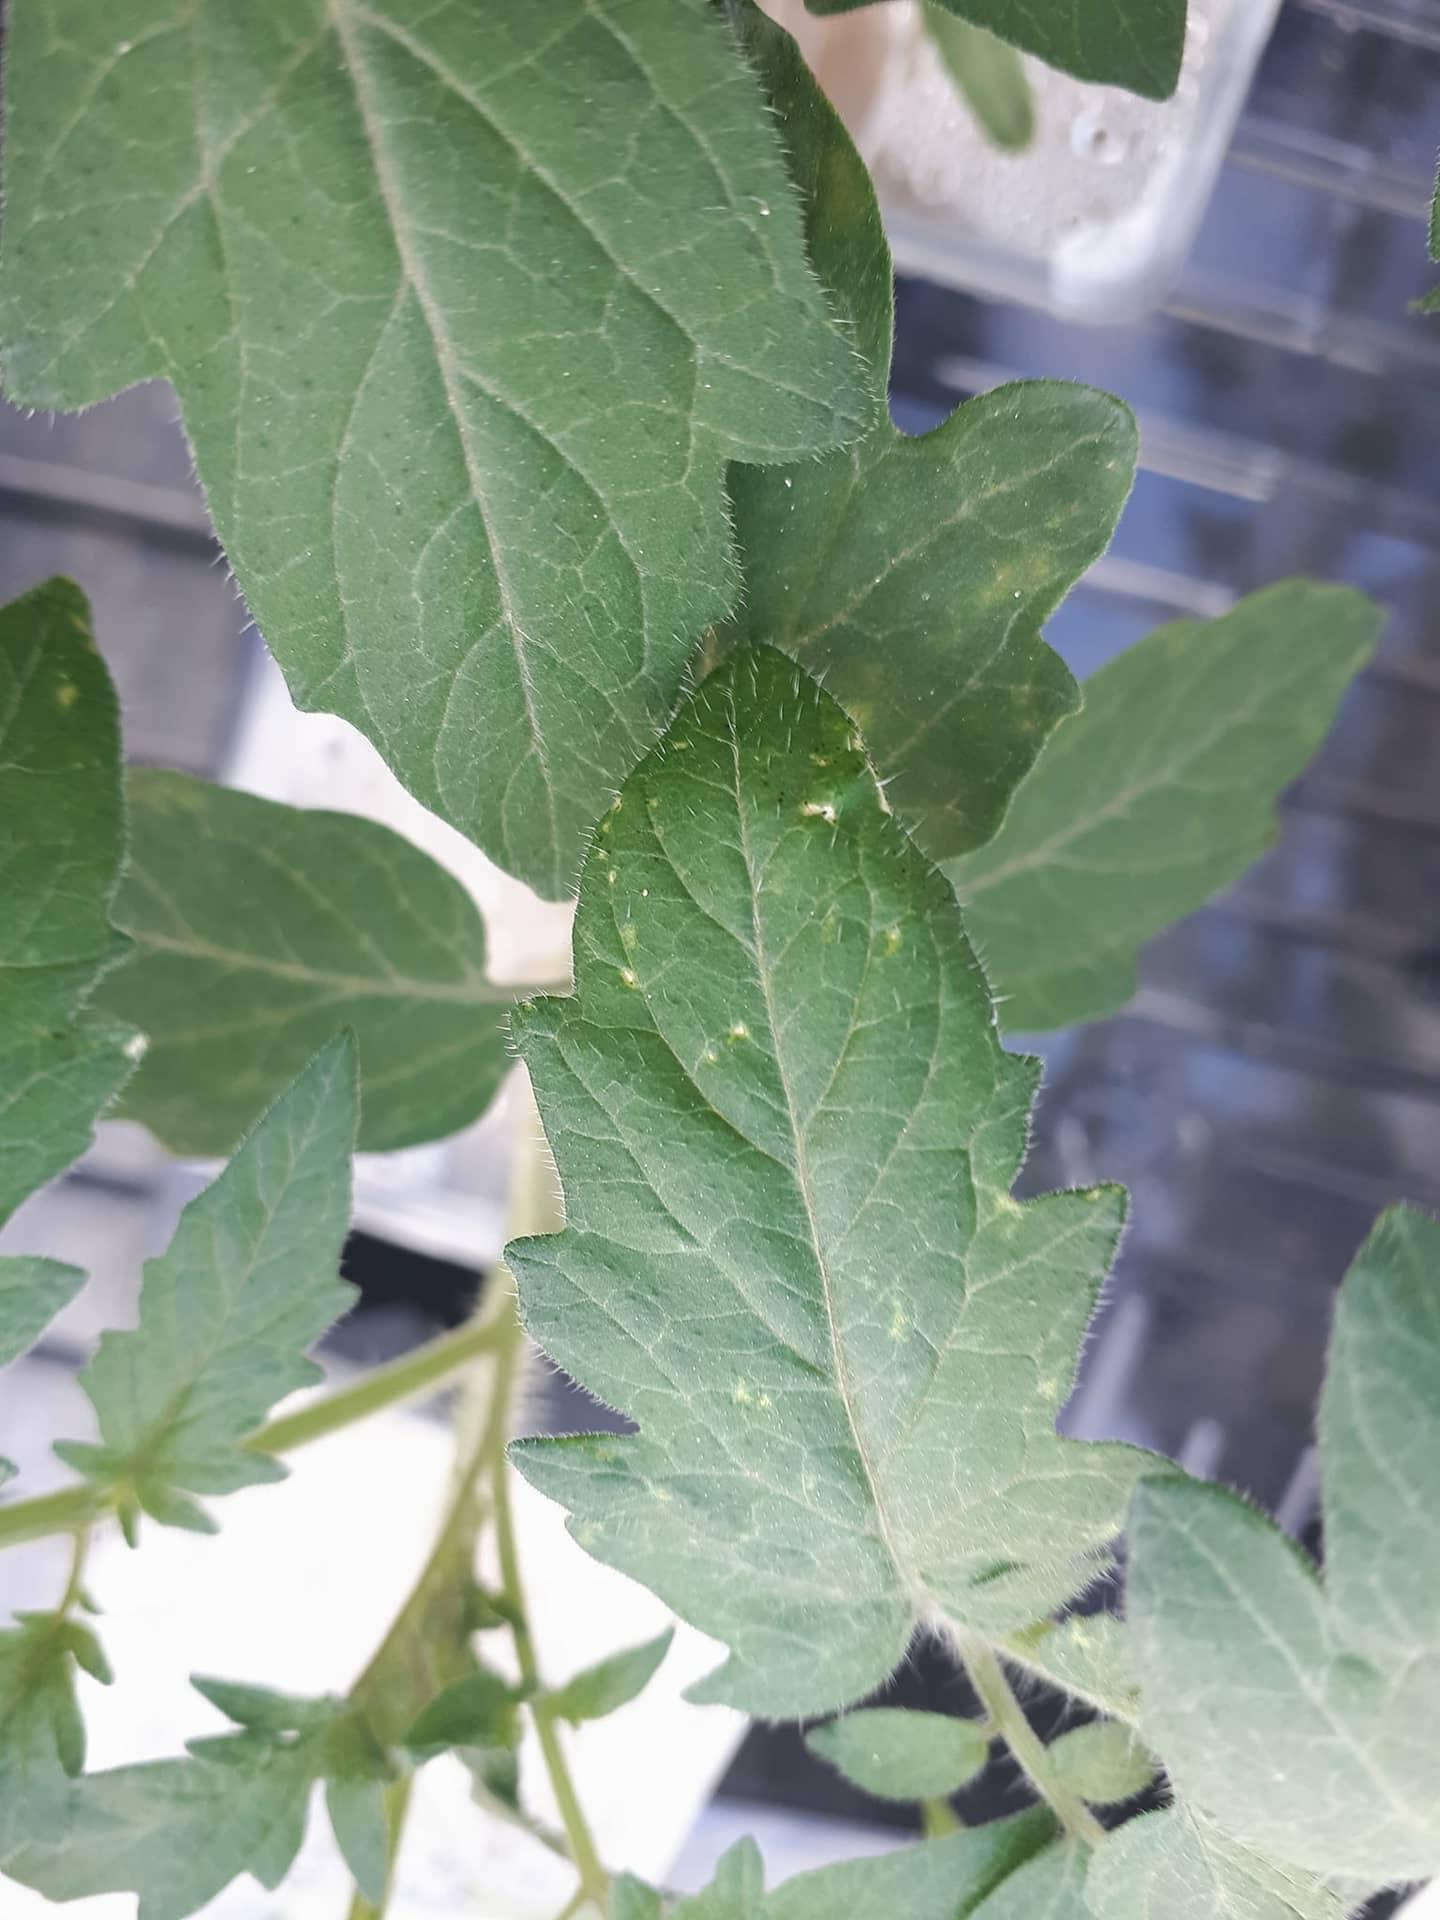Tomato mold leaf: (6, 0, 873, 937), (483, 621, 1109, 1779)
